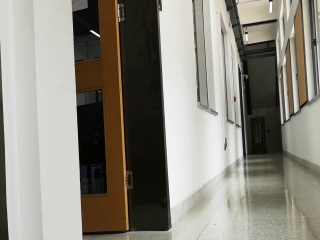room: (68, 3, 175, 228)
